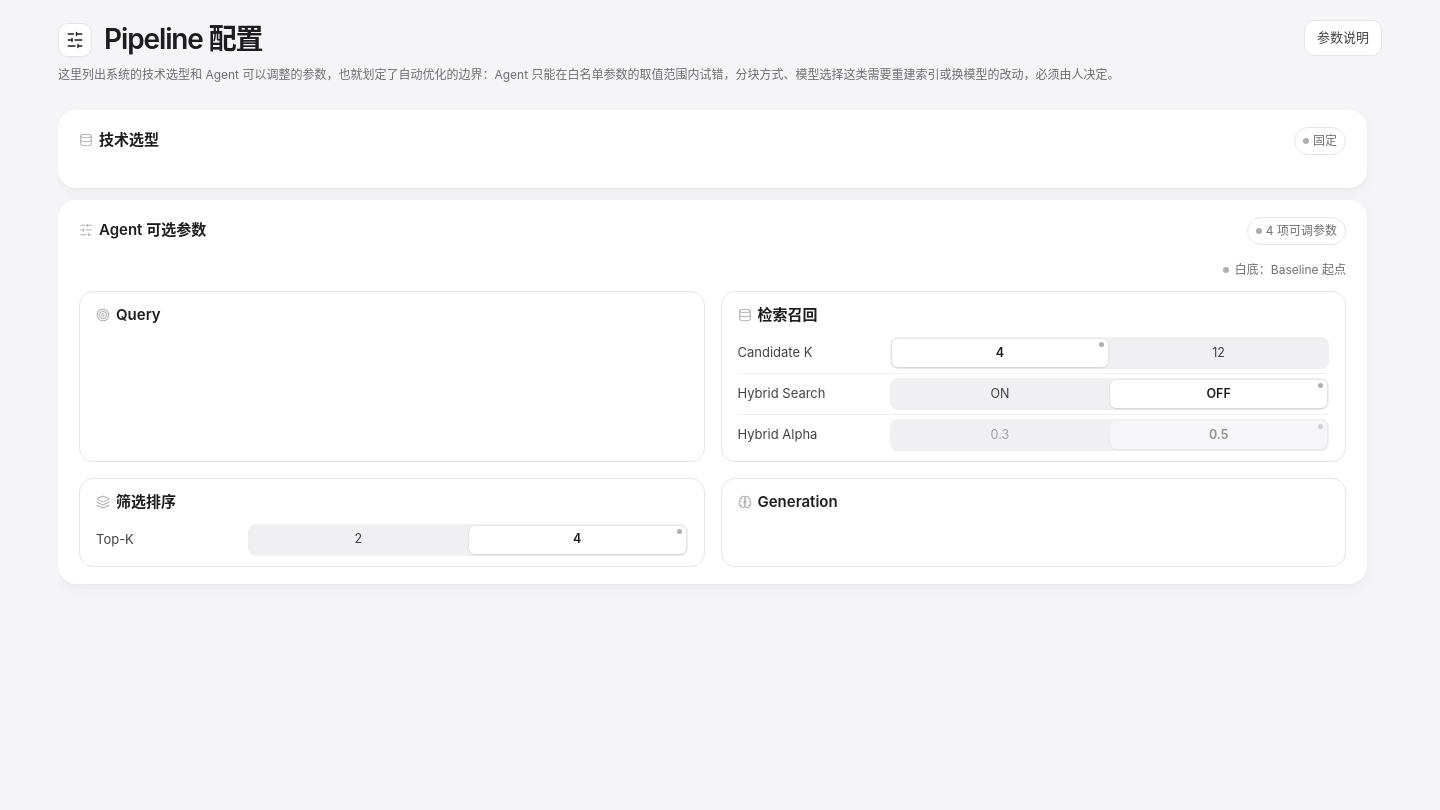
Test case: uses compact parameter radios, keeps dependencies and omits internal settings
This screenshot has width=1440, height=810.
Expected: the number of elements with class "ui-pg-group" is 4, [79,291,704,462]; [720,291,1346,462]; [79,478,704,567]; [720,478,1346,567]
Click the radio button labelled "12" at [1219, 353], box [1110,339,1327,367]
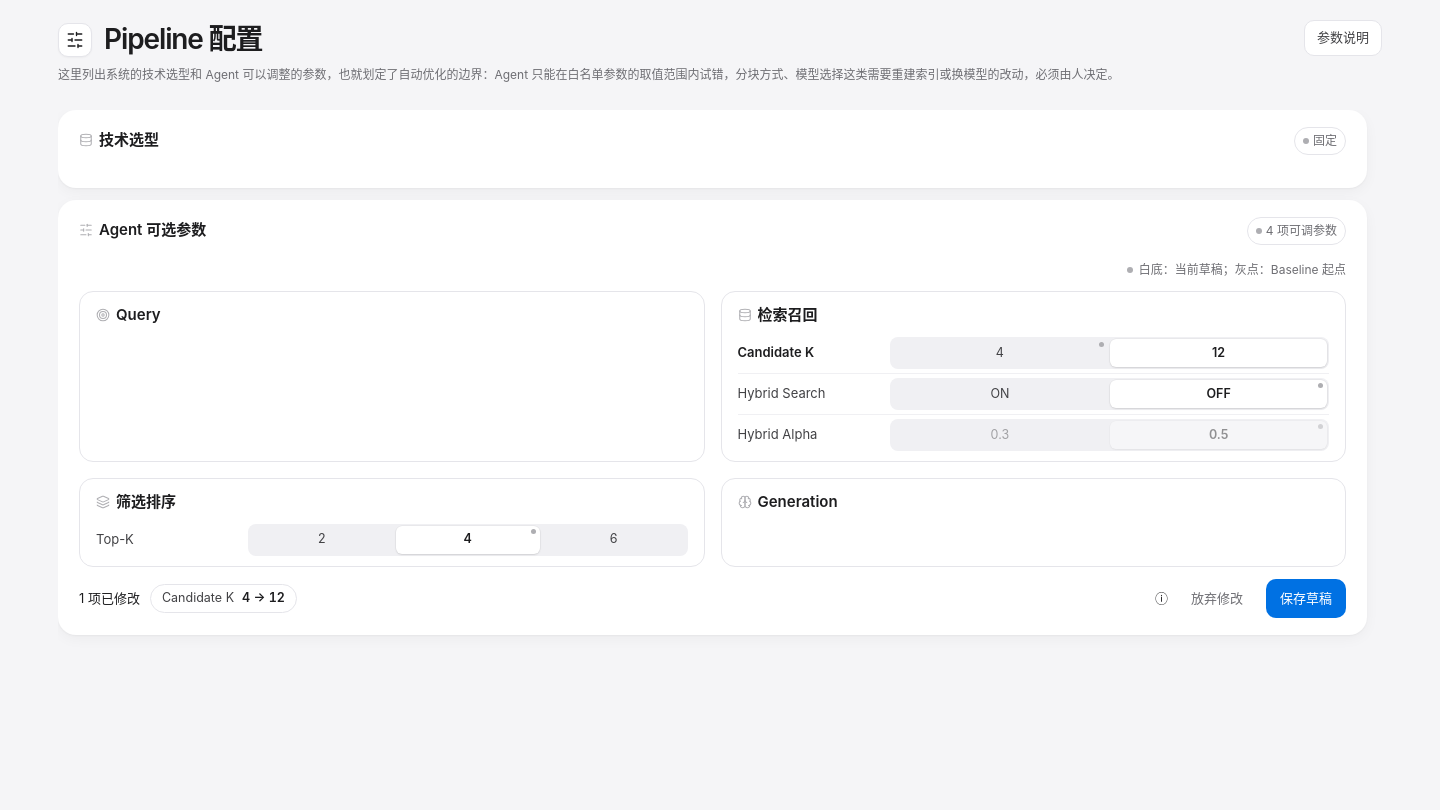
Result: the element with class "ui-param" shows "4 → 12" at [150,584,297,613]
